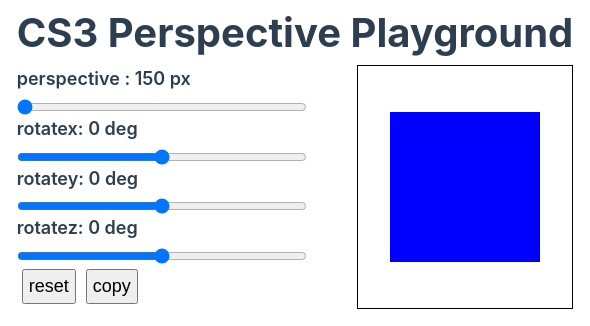
Test: check if the app is updated properly when we change input › updated properly
Set the slider named "perspective" below "perspective : 150 px" to "250" at [57, 107], box [17, 99, 307, 115]
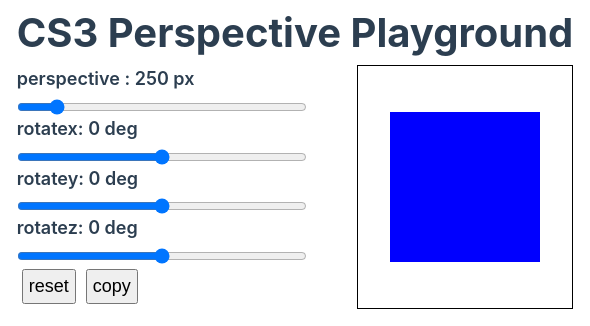
Set the slider named "rotatex" below "rotatex: 0 deg" to "60" at [208, 156], box [17, 148, 307, 164]
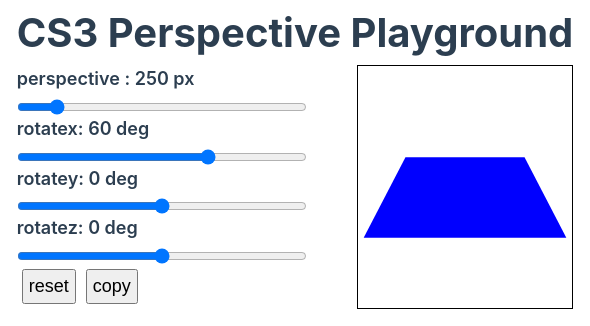
Set the slider named "rotatey" below "rotatey: 0 deg" to "80" at [223, 206], box [17, 198, 307, 214]
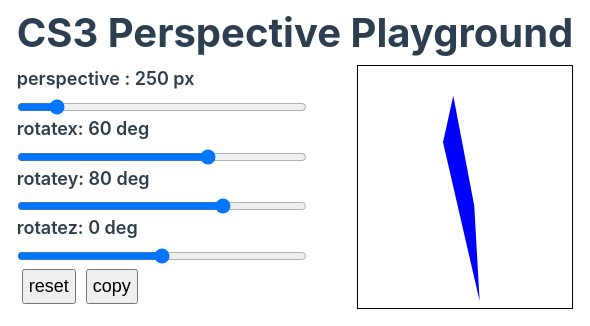
Set the slider named "rotatez" below "rotatez: 0 deg" to "-75" at [105, 256], box [17, 248, 307, 264]
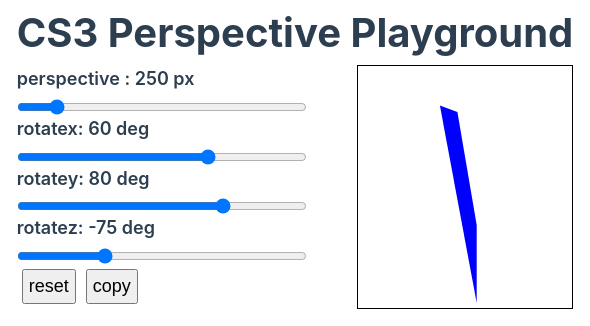
Click the reset button.
click(49, 287)  # box [22, 269, 76, 304]
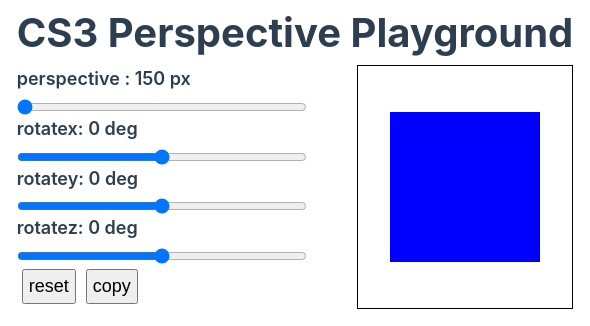
Expected: the text "perspective : 150 px" is shown, [17, 68, 191, 89]
Expected: the text "rotatex: 0 deg" is shown, [17, 118, 138, 139]
Expected: the text "rotatey: 0 deg" is shown, [17, 168, 138, 188]
